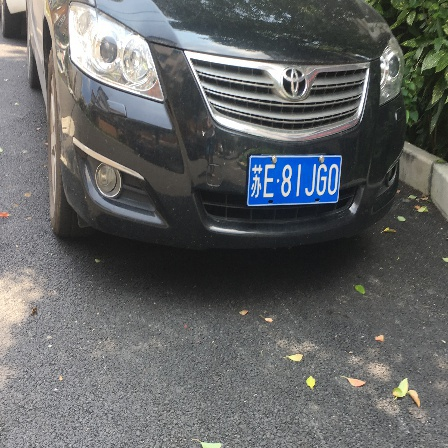plate: (248, 150, 343, 210)
